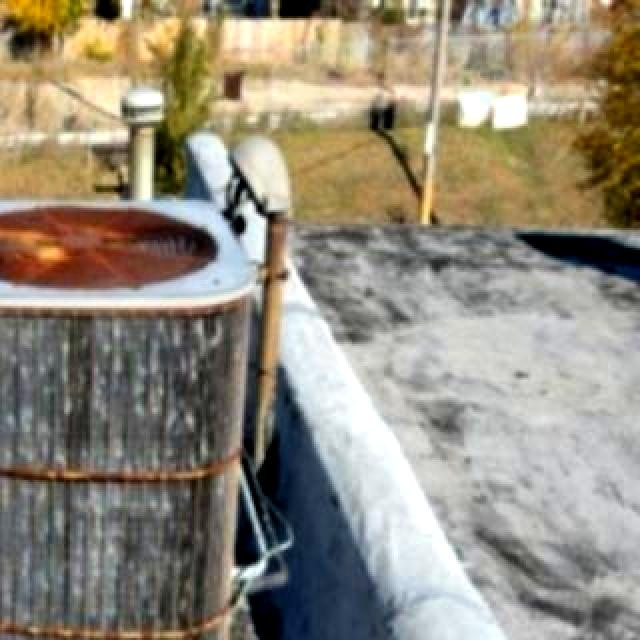GRAVITY-VENT: (116, 80, 168, 204)
SPLIT-SYSTEM: (0, 192, 248, 640)
